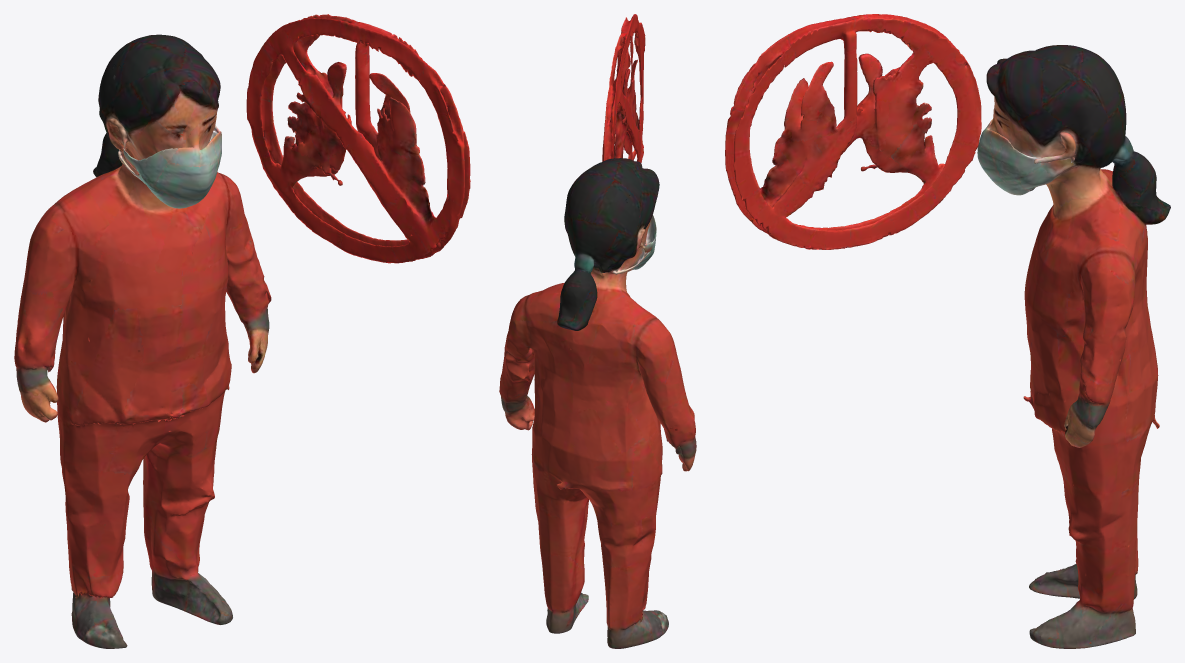
The model's file is Prevention.glb.
3 renders of one model, left to right at view 1: azimuth 30°, elevation 25°; view 2: azimuth 150°, elevation 25°; view 3: azimuth 270°, elevation 25°, orthographic. The views are drawn at different scales.
Parts seen in each view (by area): view 1: Prevention; view 2: Prevention; view 3: Prevention.
Boxes of the visible parts, x1,y1,x2,y2 form: Prevention: (14,14,470,648); Prevention: (499,14,696,648); Prevention: (725,14,1170,648).
Size of the model in its own units: 0.6911 by 1.63 by 1.03.
Materials: 1 (1 with a texture image).
